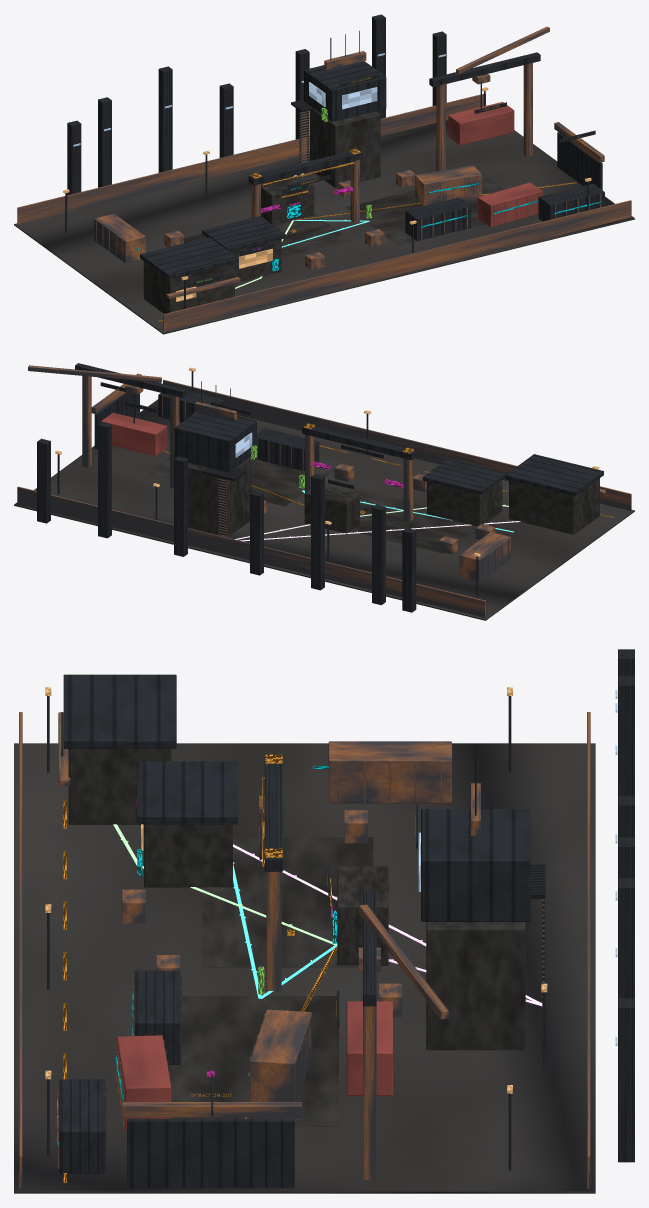
The model's file is Hesperus_FreightYard_ExtractionPrep.glb.
The picture shows the model from 3 angles, top to bottom: view 1: azimuth 30°, elevation 25°; view 2: azimuth 150°, elevation 25°; view 3: azimuth 270°, elevation 25°; orthographic projection. The views are drawn at different scales.
Parts seen in each view (by area): view 1: FY2_YardSlab, FY2_PerimeterRail_-16.6, FY2_PerimeterRail_16.6, FY_TowerBase, FY_TowerCab, FY_GatehouseMass, FY2_WetConcretePlate_B, FY_GatehouseRoof, FY_SuspendedCoverContainer, FY_Container_A, FY_Container_C, FY_Container_B (+24 smaller); view 2: FY2_YardSlab, FY2_PerimeterRail_16.6, FY2_PerimeterRail_-16.6, FY_TowerBase, FY_TowerCab, FY_GatehouseMass, FY2_WetConcretePlate_A, FY_ManifestStationMass, FY_GatehouseRoof, FY2_WetConcretePlate_B, FY_SuspendedCoverContainer, FY_ManifestStationRoof (+21 smaller); view 3: FY2_YardSlab, FY2_WetConcretePlate_A, FY2_WetConcretePlate_B, FY_TowerBase, FY_TowerCab, FY_GatehouseRoof, FY_Container_E, FY_ManifestStationRoof, FY_OutboundGate_L, FY_GatehouseMass, FY_ManifestStationMass, FY_OutboundGate_R (+19 smaller).
Boxes of the visible parts, <box> form: FY2_YardSlab: <box>14,120,634,334</box>; FY2_PerimeterRail_-16.6: <box>163,200,631,331</box>; FY2_PerimeterRail_16.6: <box>17,93,485,224</box>; FY_TowerBase: <box>310,109,380,187</box>; FY_TowerCab: <box>304,61,386,121</box>; FY_GatehouseMass: <box>143,261,234,313</box>; FY2_WetConcretePlate_B: <box>346,174,504,245</box>; FY_GatehouseRoof: <box>140,237,238,279</box>; FY_SuspendedCoverContainer: <box>448,102,514,145</box>; FY_Container_A: <box>405,197,471,240</box>; FY_Container_C: <box>415,165,481,205</box>; FY_Container_B: <box>477,182,542,227</box>; FY2_YardSlab: <box>14,399,634,620</box>; FY2_PerimeterRail_16.6: <box>17,486,485,617</box>; FY2_PerimeterRail_-16.6: <box>163,380,631,510</box>; FY_TowerBase: <box>188,457,251,537</box>; FY_TowerCab: <box>174,412,256,472</box>; FY_GatehouseMass: <box>509,478,599,534</box>; FY2_WetConcretePlate_A: <box>347,488,486,553</box>; FY_ManifestStationMass: <box>427,480,502,526</box>; FY_GatehouseRoof: <box>505,454,603,496</box>; FY2_WetConcretePlate_B: <box>148,457,335,506</box>; FY_SuspendedCoverContainer: <box>101,412,167,456</box>; FY_ManifestStationRoof: <box>422,458,506,494</box>; FY2_YardSlab: <box>14,743,595,1193</box>; FY2_WetConcretePlate_A: <box>202,837,373,967</box>; FY2_WetConcretePlate_B: <box>168,996,338,1126</box>; FY_TowerBase: <box>426,922,525,1050</box>; FY_TowerCab: <box>421,809,530,921</box>; FY_GatehouseRoof: <box>63,674,176,748</box>; FY_Container_E: <box>328,741,451,803</box>; FY_ManifestStationRoof: <box>139,761,237,824</box>; FY_OutboundGate_L: <box>127,1118,215,1188</box>; FY_GatehouseMass: <box>68,749,171,824</box>; FY_ManifestStationMass: <box>144,824,232,887</box>; FY_OutboundGate_R: <box>216,1118,294,1188</box>.
Size of the model in its own units: 65.24 by 17.6 by 36.3.
15 materials, 12 textured.
